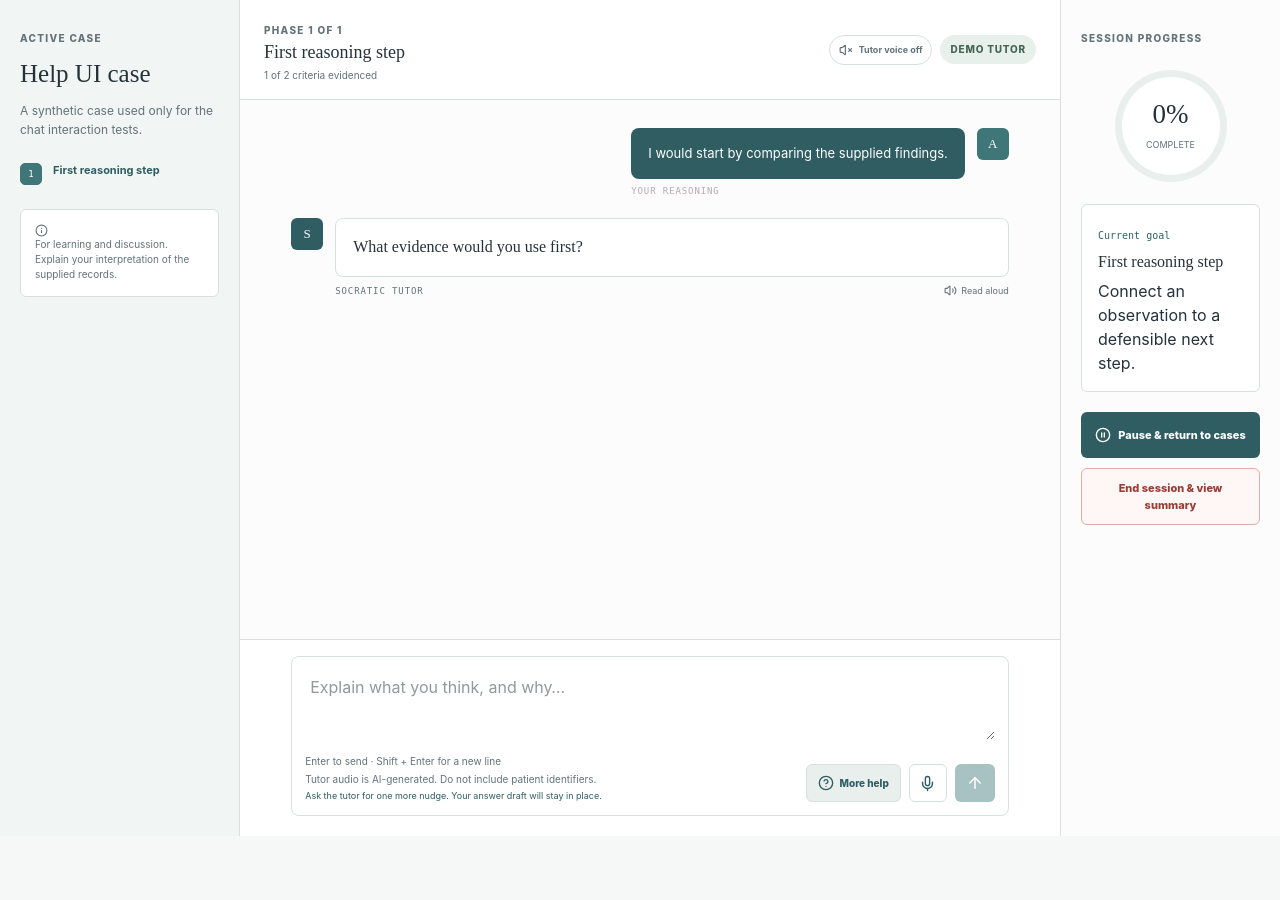
Test: student More help interaction › reuses the unresolved ID when the main button is used after a retryable failure
This screenshot has width=1280, height=900.
Click the button with class "more-help-button".
click(853, 783)  # box [806,764,901,802]
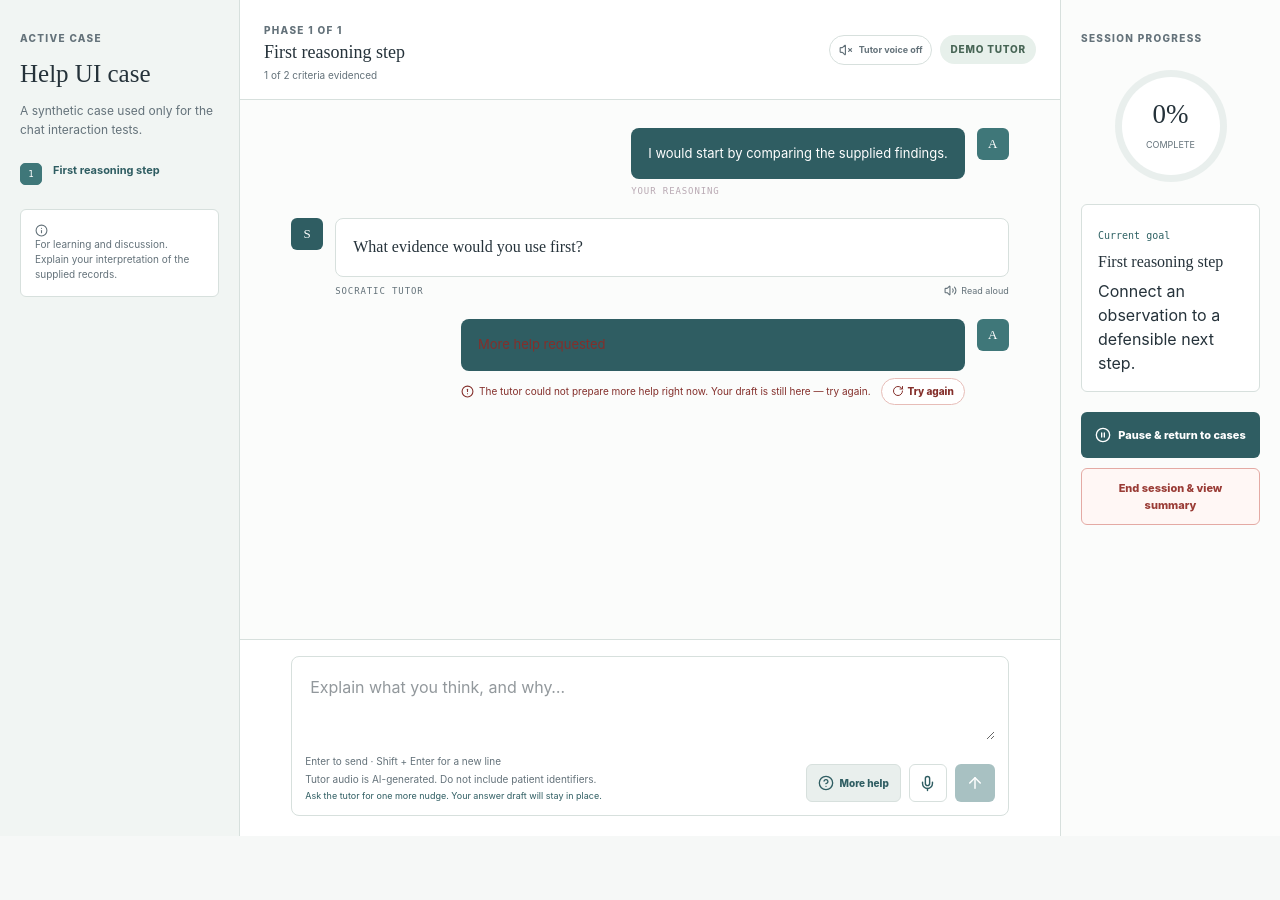
Expected: the message with class "message-failure" shows "Try again", [880,378,965,405]
Click the button with class "more-help-button".
click(853, 783)  # box [806,764,901,802]
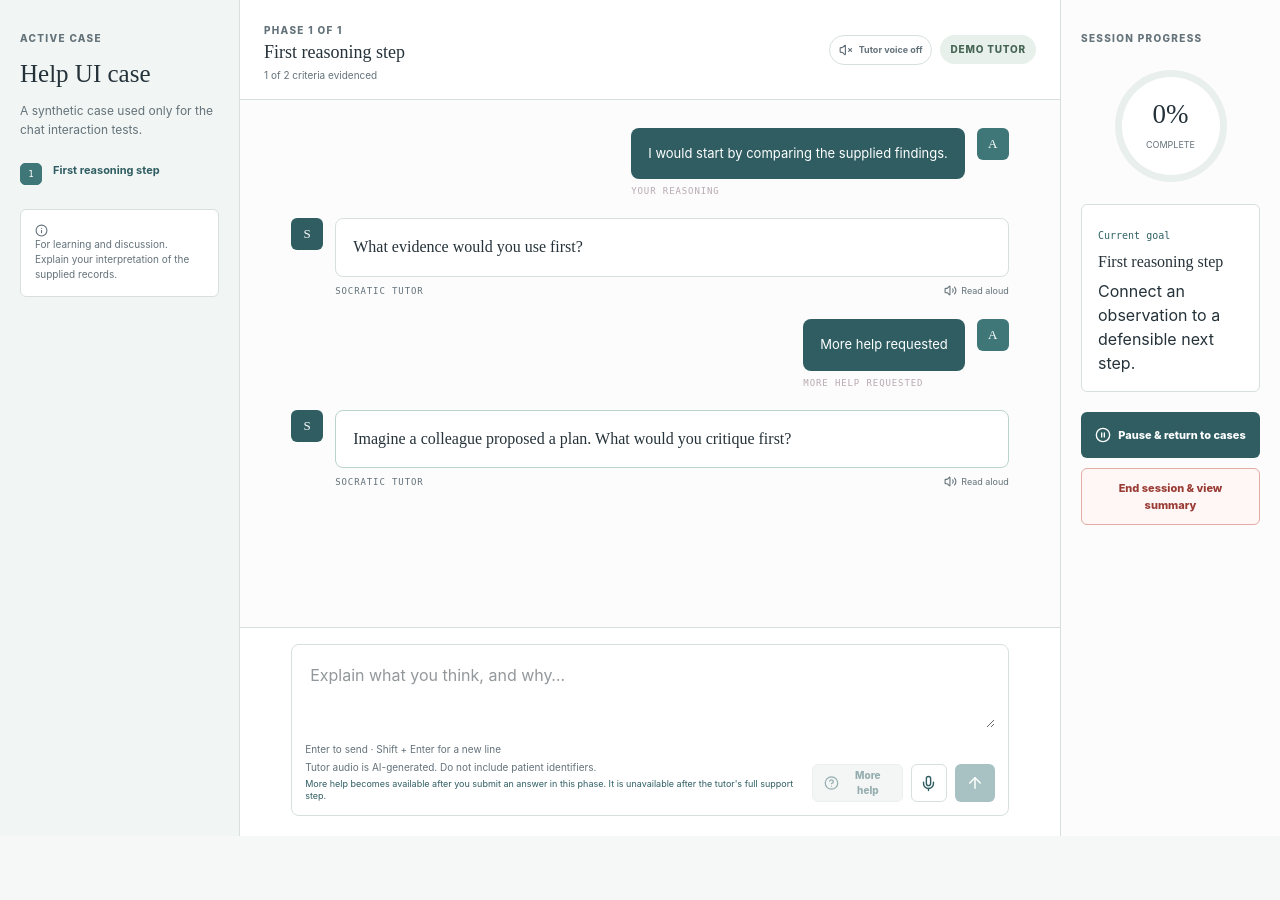
Expected: the button with class "more-help-button" is disabled, [812,764,903,802]
